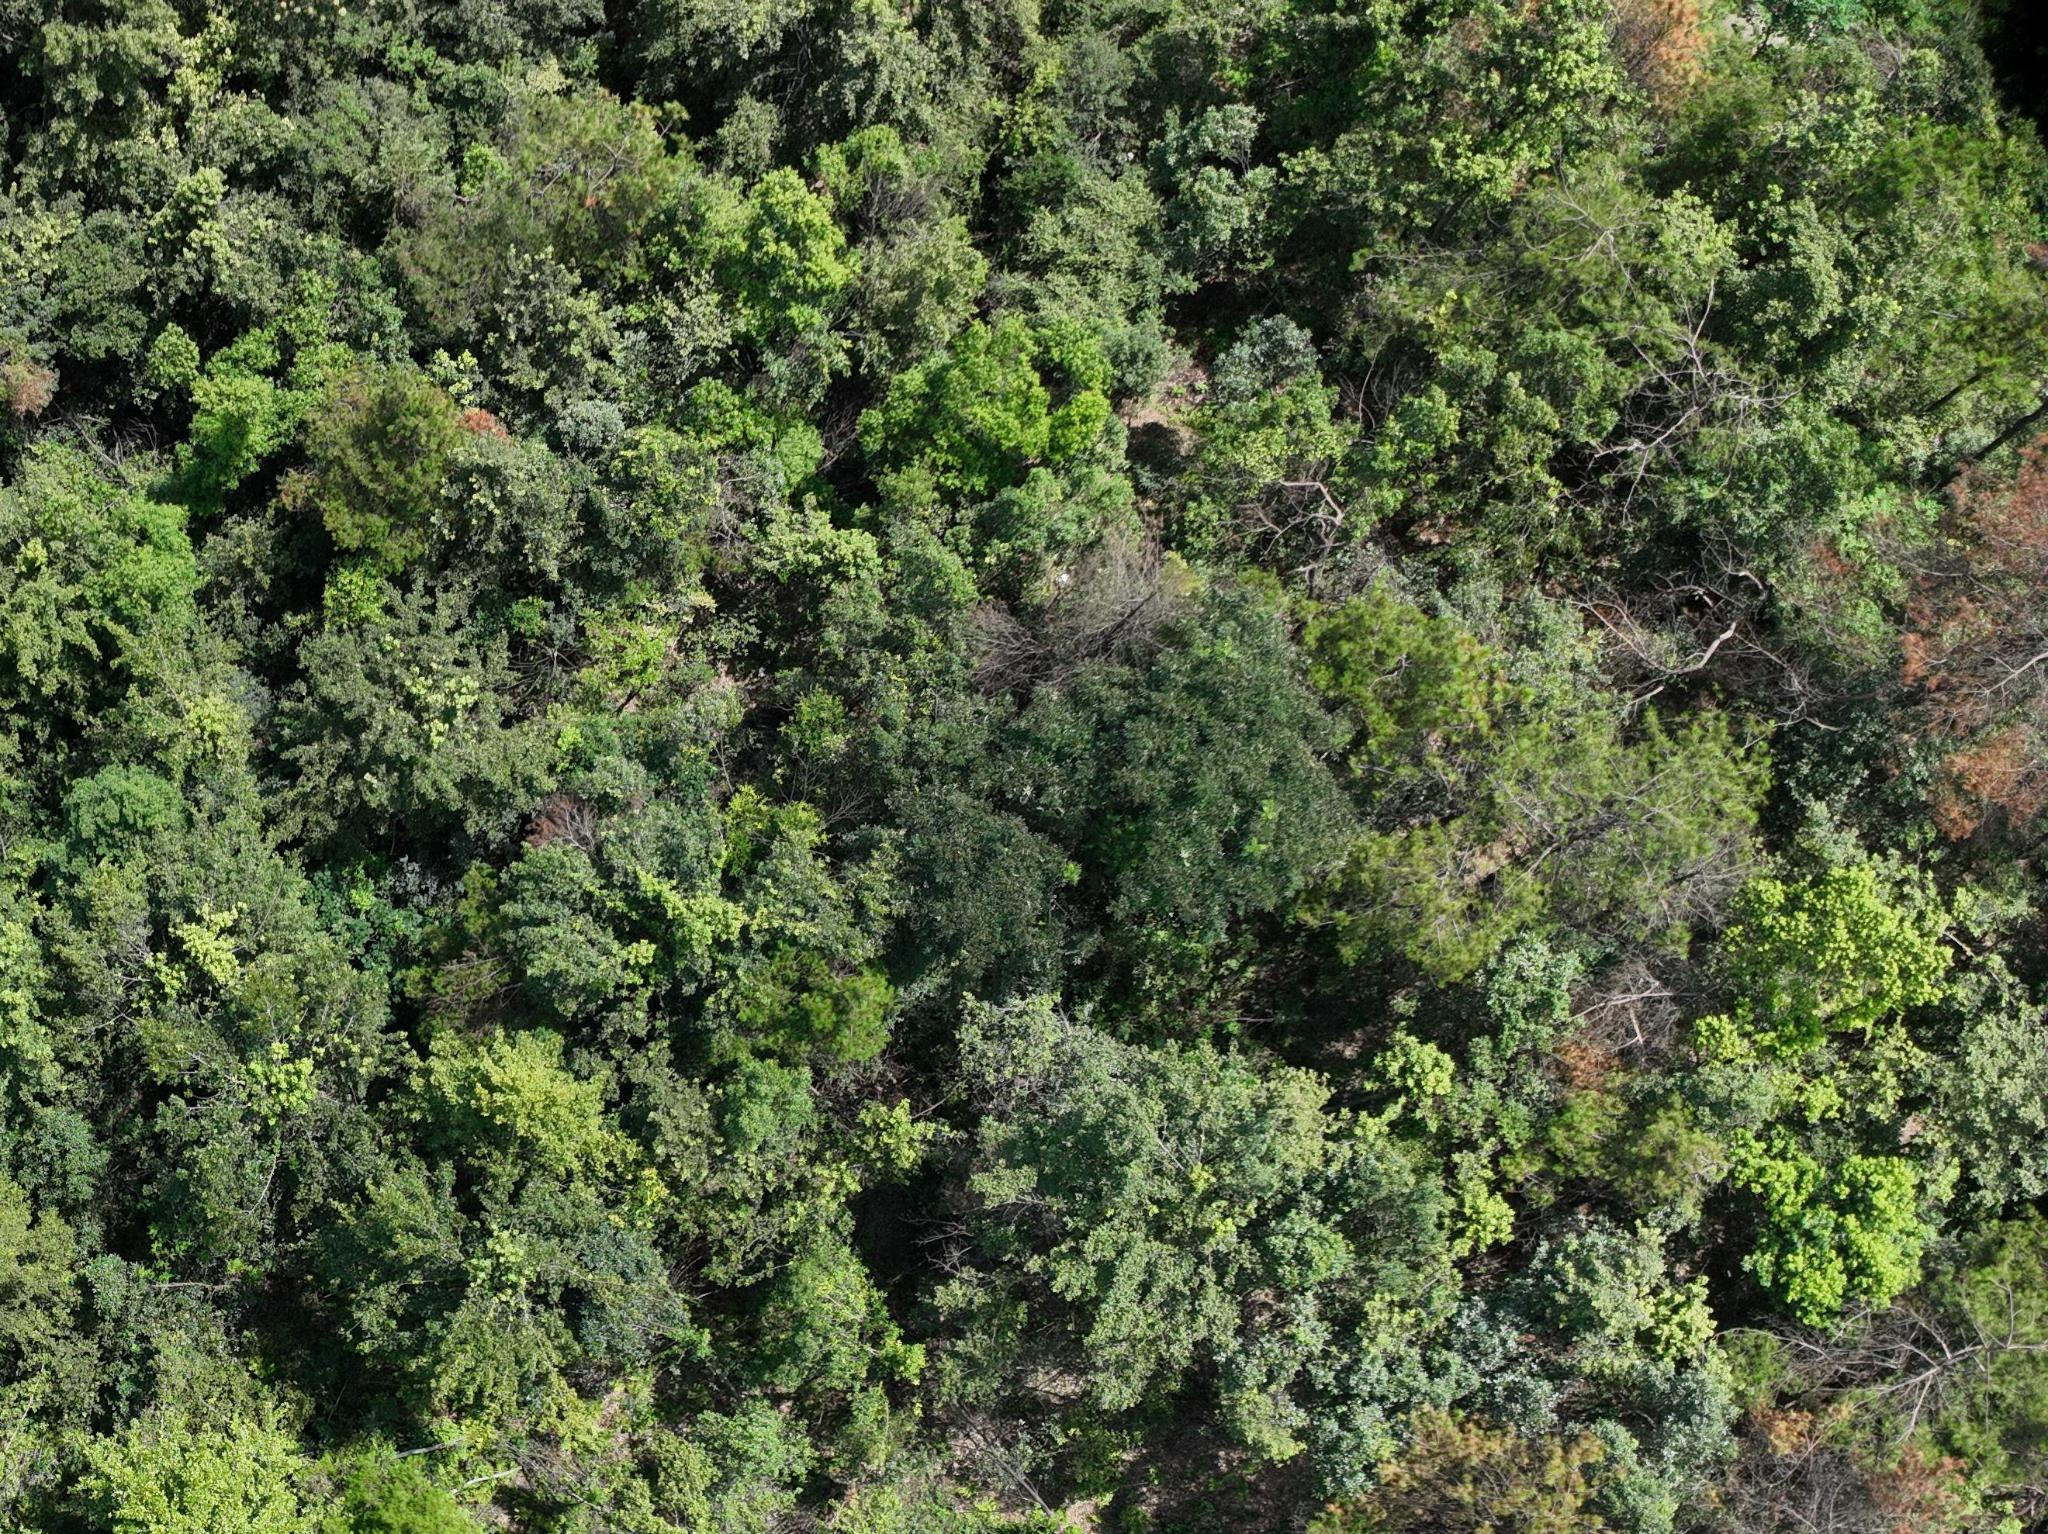heavy: (1893, 443, 2032, 836), (1615, 11, 1718, 105)
